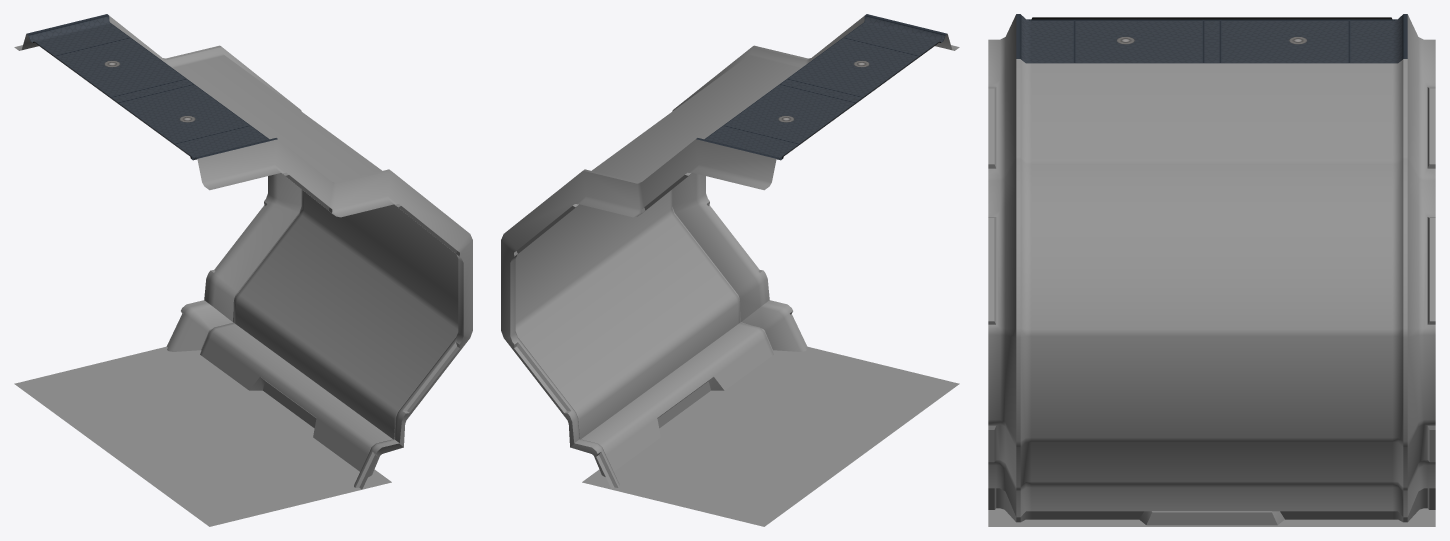
Rendered from Corr_A_3m.fbx.
3 views of the same model, side by side, from view 1: azimuth 30°, elevation 25°; view 2: azimuth 150°, elevation 25°; view 3: azimuth 270°, elevation 25° (orthographic). The views are drawn at different scales.
Visible parts, largest first — view 1: Corr_A_3m; view 2: Corr_A_3m; view 3: Corr_A_3m.
Boxes of the visible parts, bbox=[...] form: Corr_A_3m: bbox=[14, 14, 472, 526]; Corr_A_3m: bbox=[501, 14, 959, 526]; Corr_A_3m: bbox=[988, 14, 1435, 526].
Size of the model in its own units: 244 by 304 by 300.
5 materials, 1 textured.
